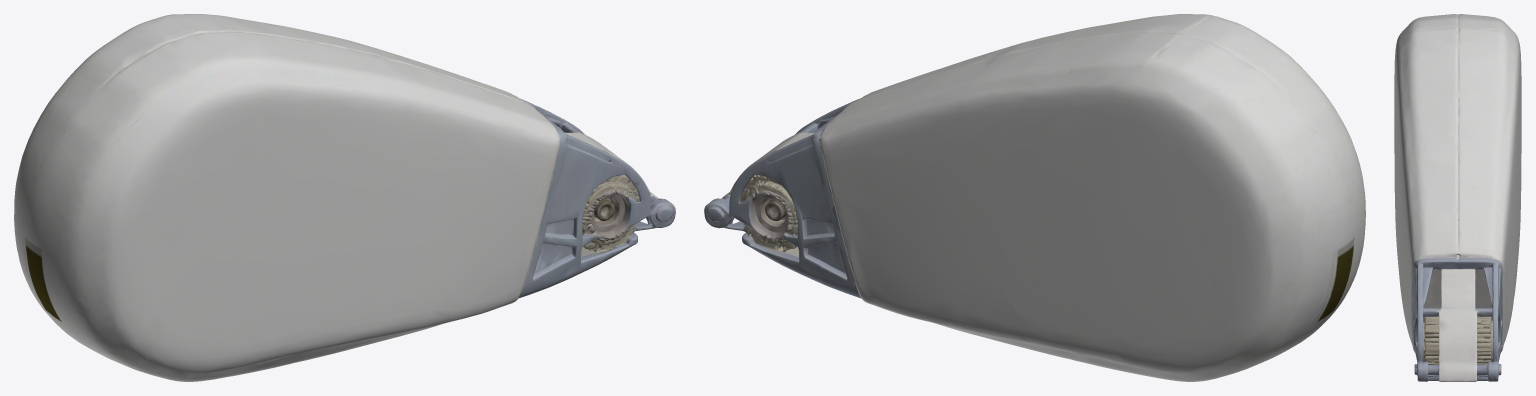
Rendered from original.glb.
3 renders of one model, left to right at view 1: azimuth 30°, elevation 25°; view 2: azimuth 150°, elevation 25°; view 3: azimuth 270°, elevation 25°, orthographic. The views are drawn at different scales.
Visible parts, largest first — view 1: world; view 2: world; view 3: world.
Boxes of the visible parts, x1=… form: world: x1=14, y1=14, x2=675, y2=381; world: x1=704, y1=14, x2=1365, y2=381; world: x1=1394, y1=14, x2=1521, y2=381.
Bounding box in the file's own units: 0.999 × 0.51 × 0.2503.
1 material, 1 textured.
